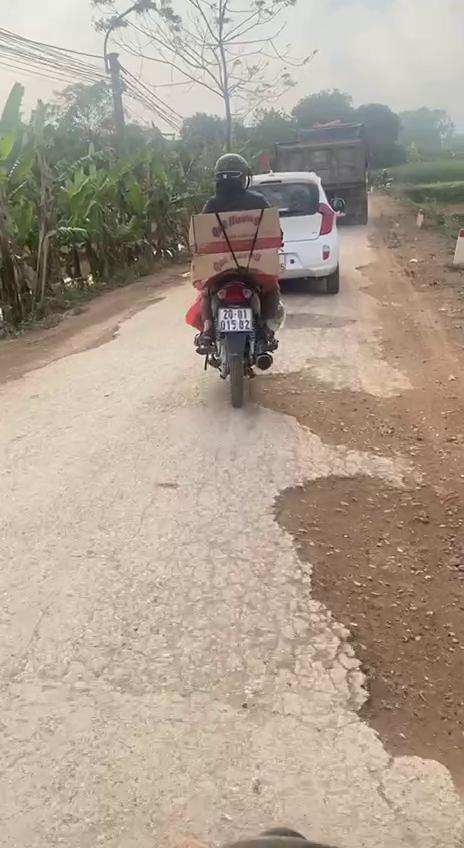pothole: (276, 465, 464, 799), (244, 368, 421, 466), (280, 311, 358, 331), (71, 325, 122, 355)
